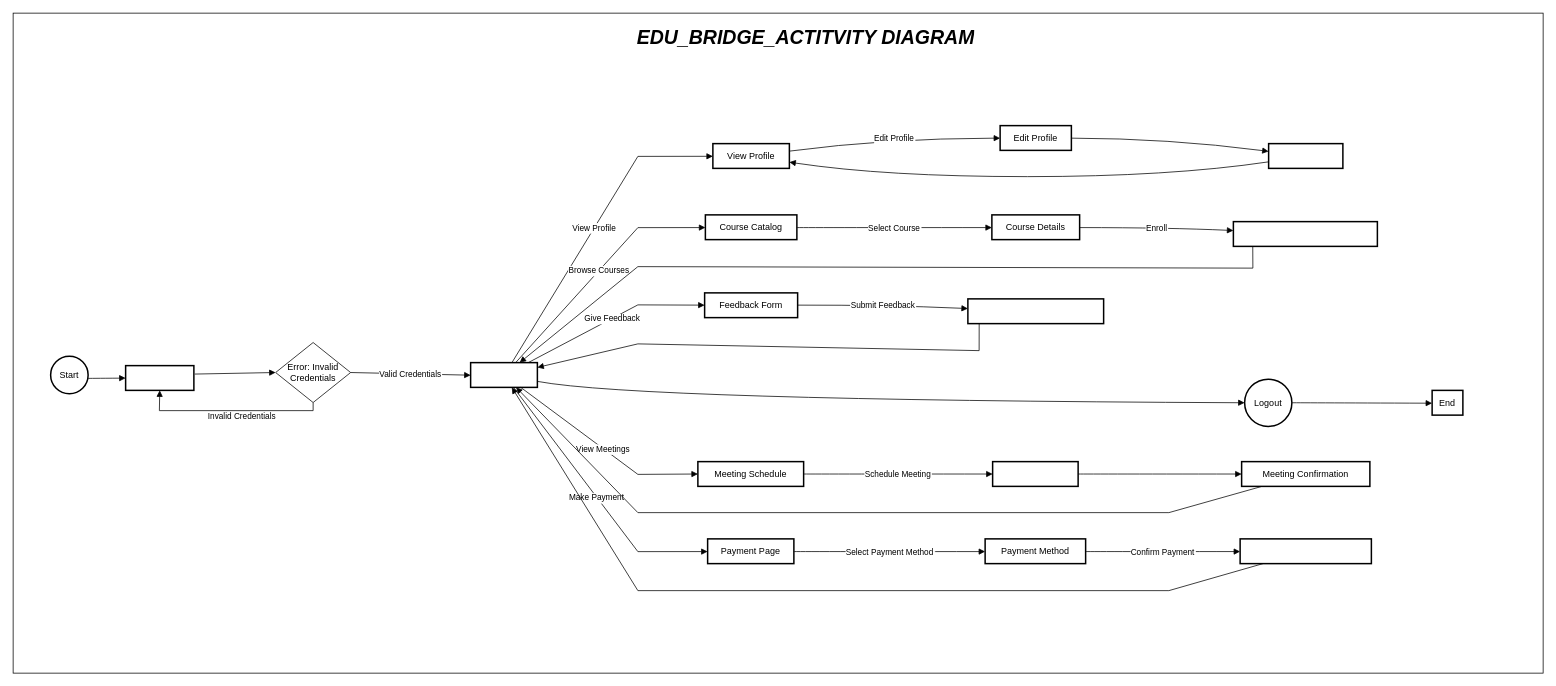
The diagram is 1556 pixels wide and 686 high, and some of its shapes have lost their labels. The shapes that lost their labels are listed below. From the top down, each one's box as (x1, y1, x2, y2) in pixels, then its label:
(1268, 142, 1343, 169): Save Profile
(1232, 220, 1378, 247): Enrollment Confirmation
(967, 298, 1104, 324): Feedback Confirmation
(124, 364, 194, 391): Login Page
(470, 362, 538, 388): Dashboard
(992, 460, 1078, 487): Meeting Form
(1239, 538, 1372, 564): Payment Confirmation
